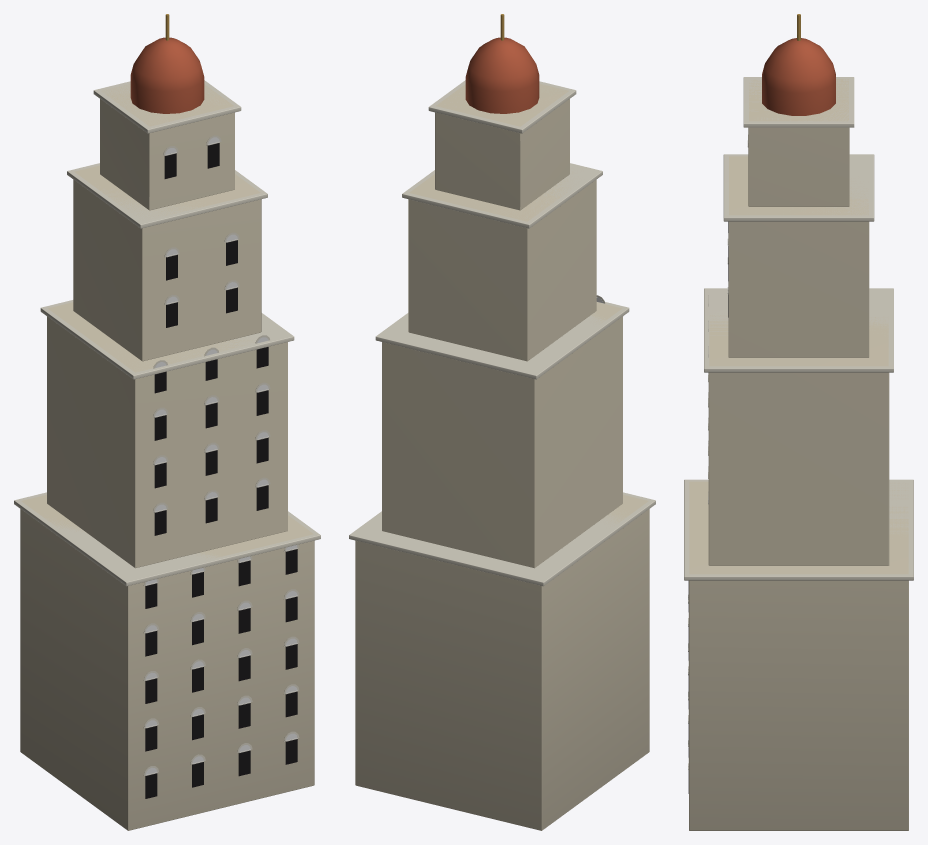
Rendered from SpanishTowerMIA.fbx.
3 renders of one model, left to right at view 1: azimuth 30°, elevation 25°; view 2: azimuth 150°, elevation 25°; view 3: azimuth 270°, elevation 25°, orthographic. The views are drawn at different scales.
Parts seen in each view (by area): view 1: SpanishTowerMIA; view 2: SpanishTowerMIA; view 3: SpanishTowerMIA.
Part boxes in pixels (x1,y1,x2,y2): SpanishTowerMIA: (14,14,320,830); SpanishTowerMIA: (349,14,655,830); SpanishTowerMIA: (684,14,913,830).
Bounding box in the file's own units: 14.6 × 54 × 14.6.
